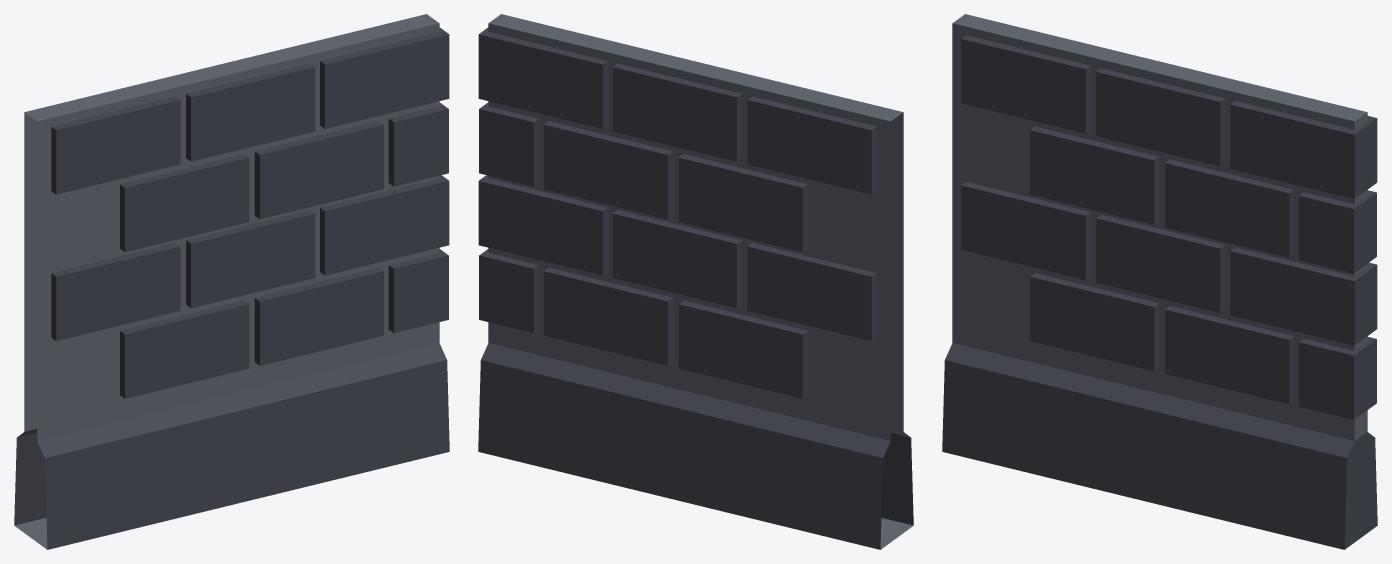
The model's file is Wall_end_right.fbx.
3 renders of one model, left to right at view 1: azimuth 30°, elevation 25°; view 2: azimuth 150°, elevation 25°; view 3: azimuth 330°, elevation 25°, orthographic.
Visible parts, largest first — view 1: Wall_end_right; view 2: Wall_end_right; view 3: Wall_end_right.
Part boxes in pixels (left/top/right/bottom): Wall_end_right: left=14, top=14, right=449, bottom=549; Wall_end_right: left=478, top=14, right=913, bottom=549; Wall_end_right: left=942, top=14, right=1377, bottom=549.
Bounding box in the file's own units: 202 × 200 × 28.64.
